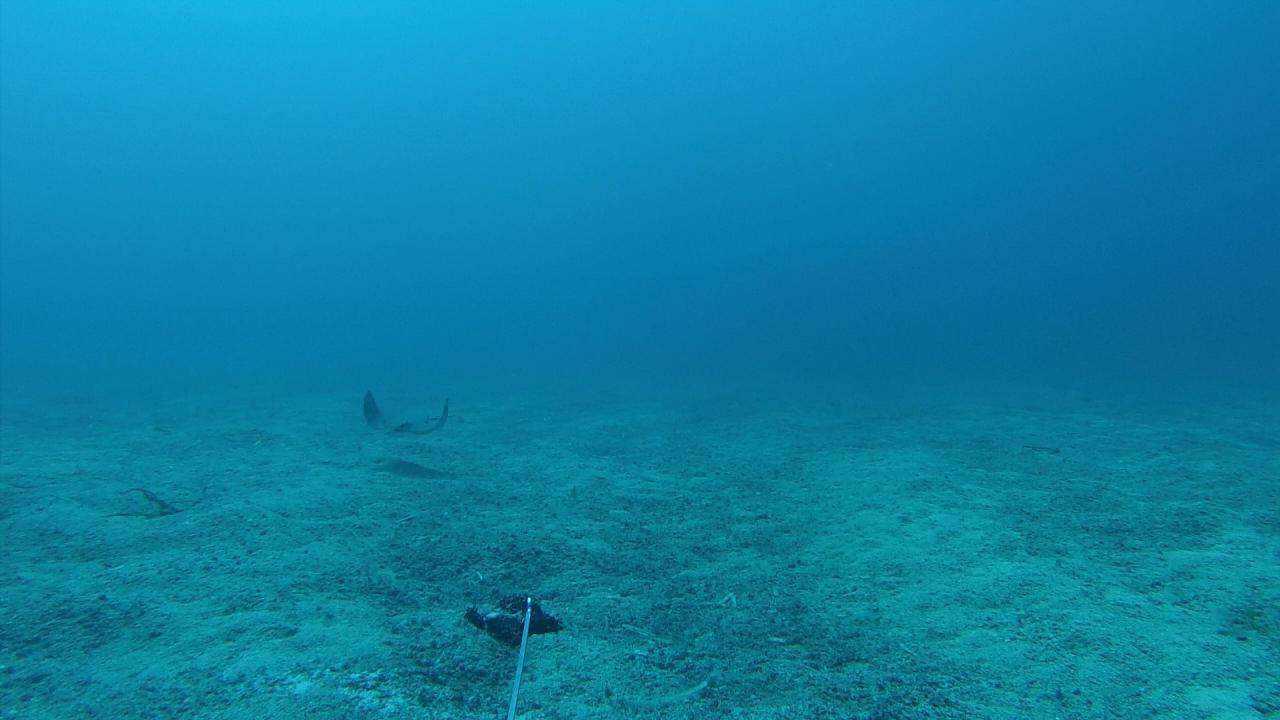dasyatis: (362, 390, 456, 437)
